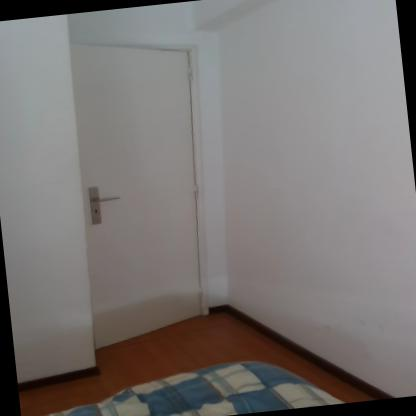closed: (65, 31, 228, 358)
